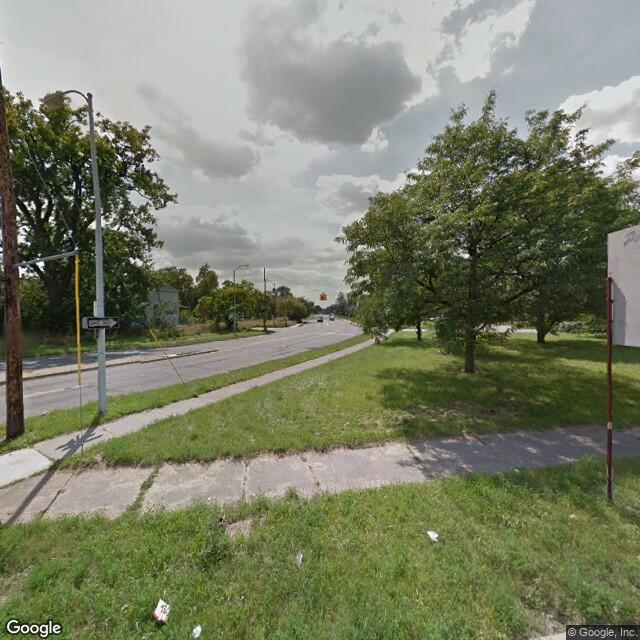litter: (149, 599, 172, 623), (425, 528, 442, 544), (194, 625, 207, 636), (569, 512, 578, 519)
